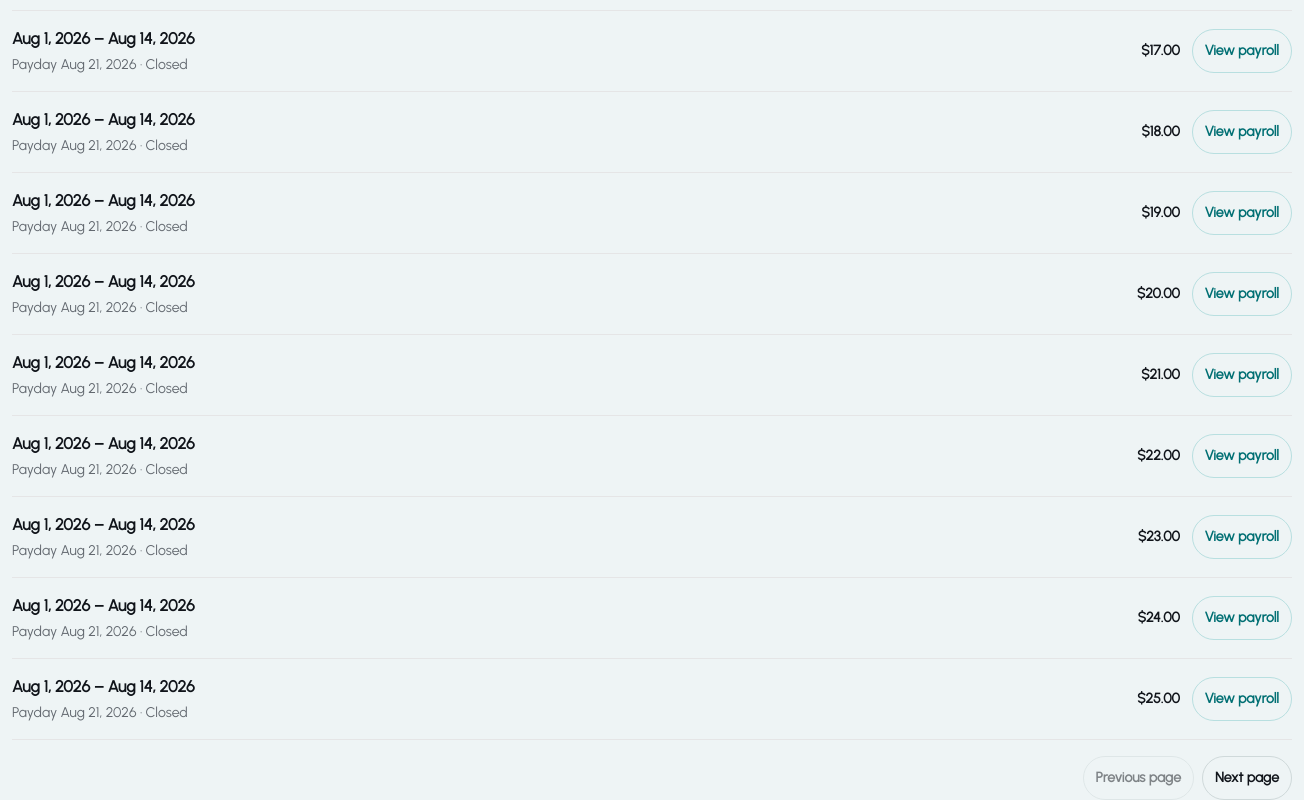
Test: PayrollHistoryPanel › loads only the selected regular or off-cycle history family
(page scrolled)
Click the button "Next page". click: point(1247, 778)
box: [1202,756,1292,799]
(page scrolled)
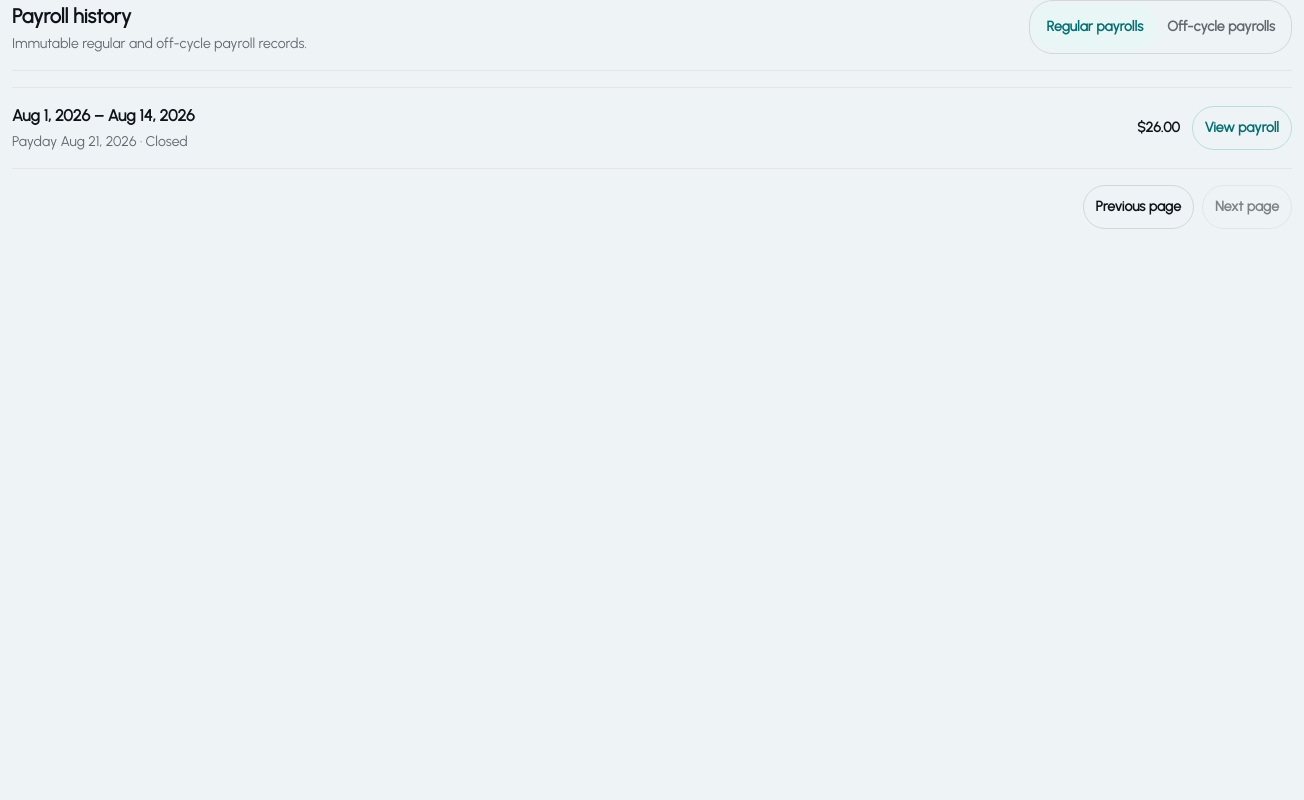
Click the button "Off-cycle payrolls". click: point(1221, 27)
box: [1155,5,1287,49]
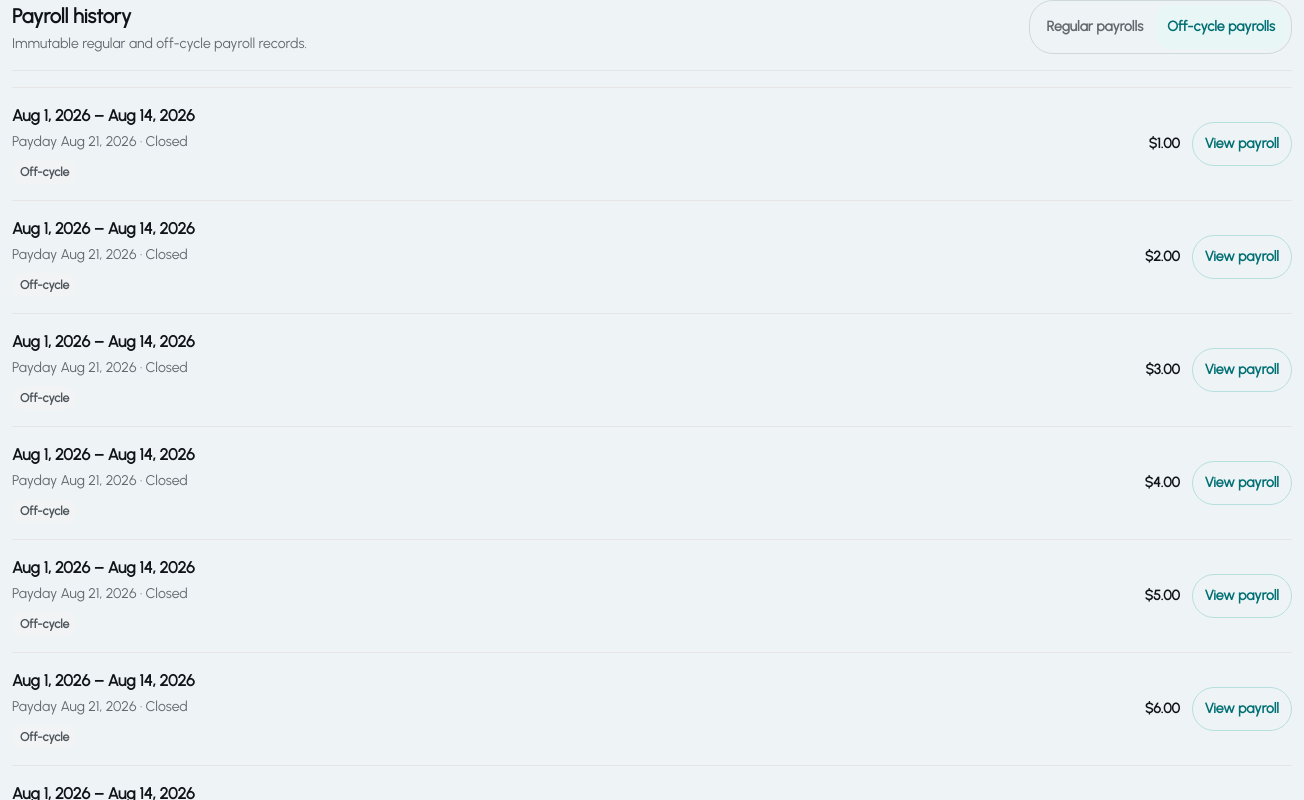
Now the text "Off-cycle" is shown 25 times
